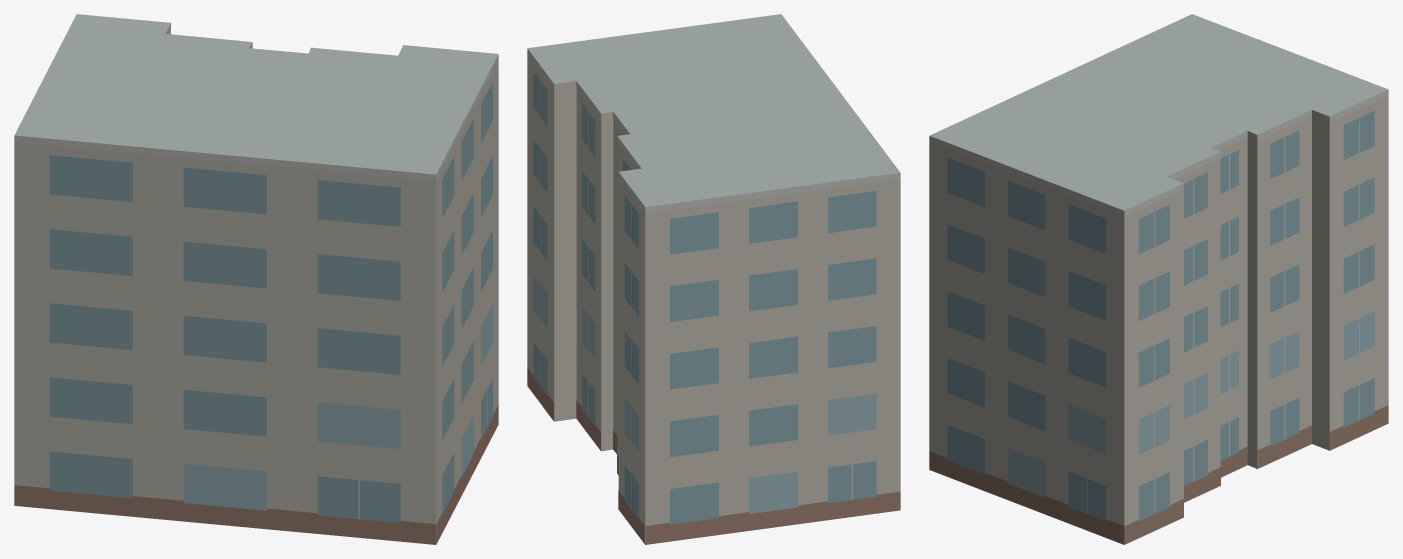
Rendered from survey-upis-32966829.glb.
3 renders of one model, left to right at view 1: azimuth 30°, elevation 25°; view 2: azimuth 150°, elevation 25°; view 3: azimuth 270°, elevation 25°, orthographic. The views are drawn at different scales.
Parts seen in each view (by area): view 1: survey-upis-32966829.tmp; view 2: survey-upis-32966829.tmp; view 3: survey-upis-32966829.tmp.
Part boxes in pixels (x1=…): survey-upis-32966829.tmp: x1=14, y1=14, x2=498, y2=544; survey-upis-32966829.tmp: x1=527, y1=14, x2=900, y2=544; survey-upis-32966829.tmp: x1=929, y1=14, x2=1388, y2=544.
Size of the model in its own units: 17.81 by 14.1 by 17.57.
